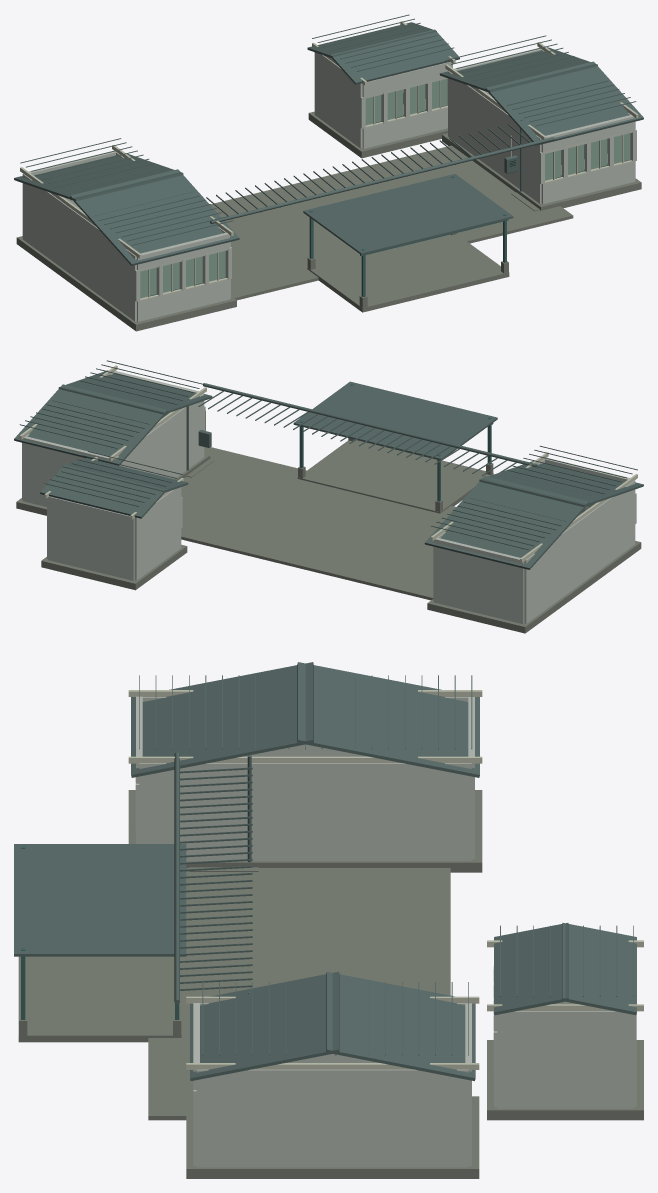
Rendered from clinic-4.glb.
The picture shows the model from 3 angles, top to bottom: view 1: azimuth 30°, elevation 25°; view 2: azimuth 150°, elevation 25°; view 3: azimuth 270°, elevation 25°; orthographic projection. The views are drawn at different scales.
Parts seen in each view (by area): view 1: Clinic_4; view 2: Clinic_4; view 3: Clinic_4.
Part boxes in pixels (left/top/right/bottom): Clinic_4: left=14, top=14, right=643, bottom=331; Clinic_4: left=14, top=360, right=643, bottom=633; Clinic_4: left=14, top=662, right=643, bottom=1178.
Size of the model in its own units: 30.1 by 4.94 by 20.85.
